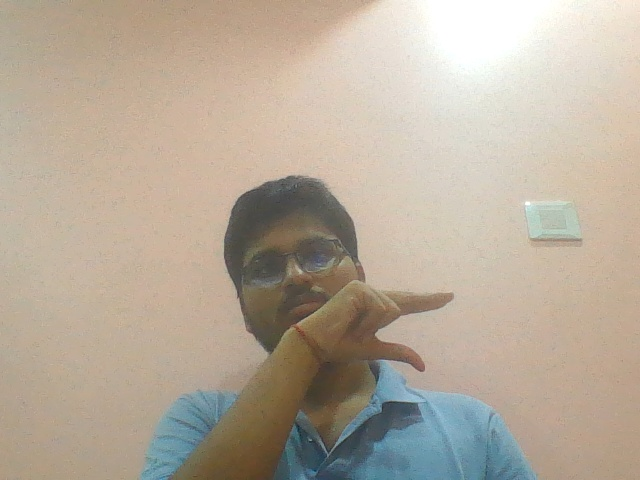no: (281, 278, 468, 377)
